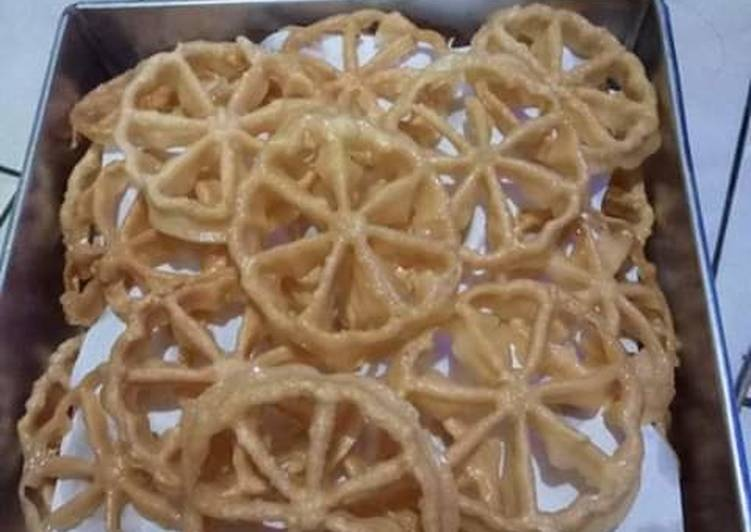kembang_goyang: (238, 130, 459, 352)
